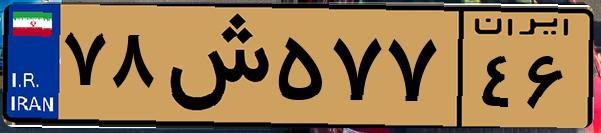4: (475, 38, 525, 113)
5: (270, 28, 330, 110)
6: (525, 38, 570, 115)
7: (385, 28, 445, 110), (330, 28, 385, 110), (57, 26, 110, 100)
8: (110, 28, 158, 98)
ش: (158, 12, 270, 120)
